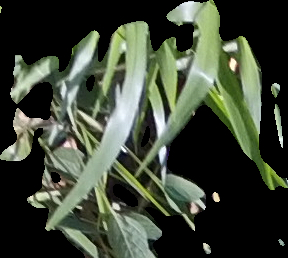grass: (1, 1, 287, 256)
